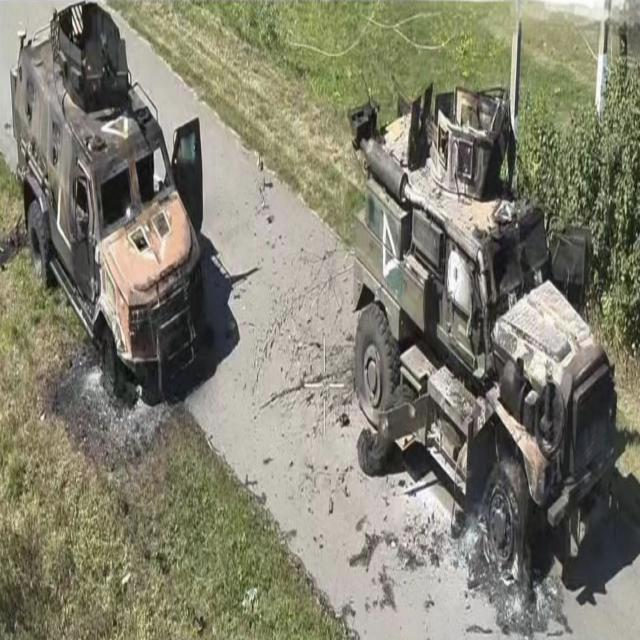vehicle: (352, 74, 618, 584), (8, 2, 204, 410)
